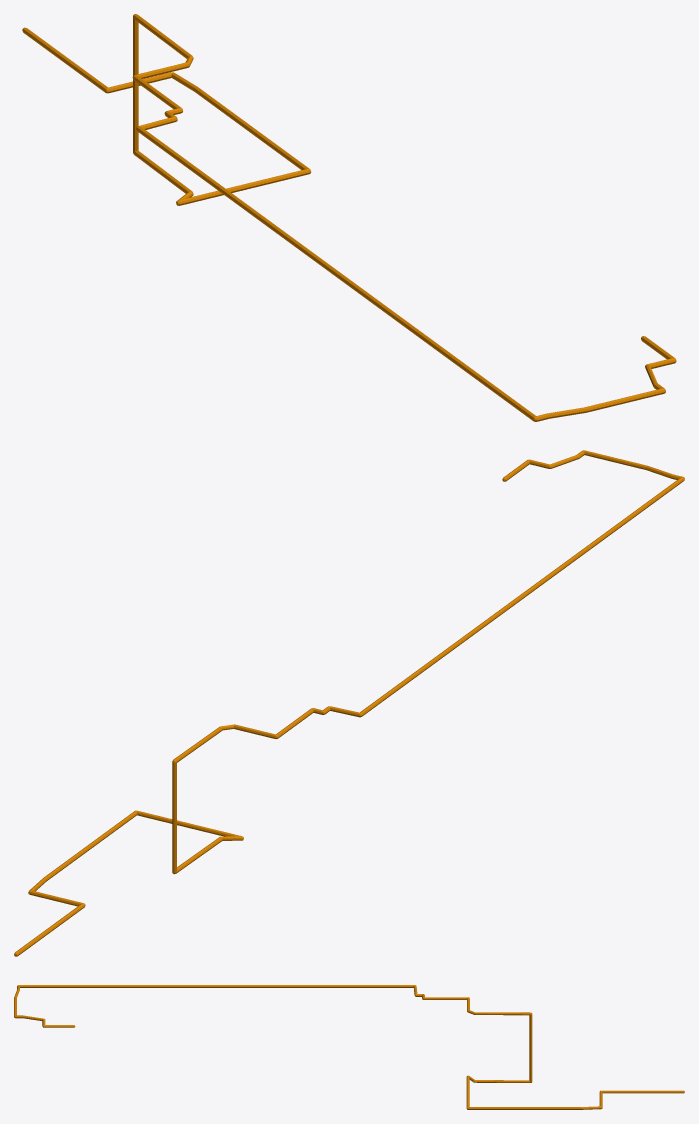
3 renders of one model, top to bottom at view 1: azimuth 30°, elevation 25°; view 2: azimuth 150°, elevation 25°; view 3: azimuth 270°, elevation 25°, orthographic. The views are drawn at different scales.
Bounding box in the file's own units: 878 × 520 × 4484.
